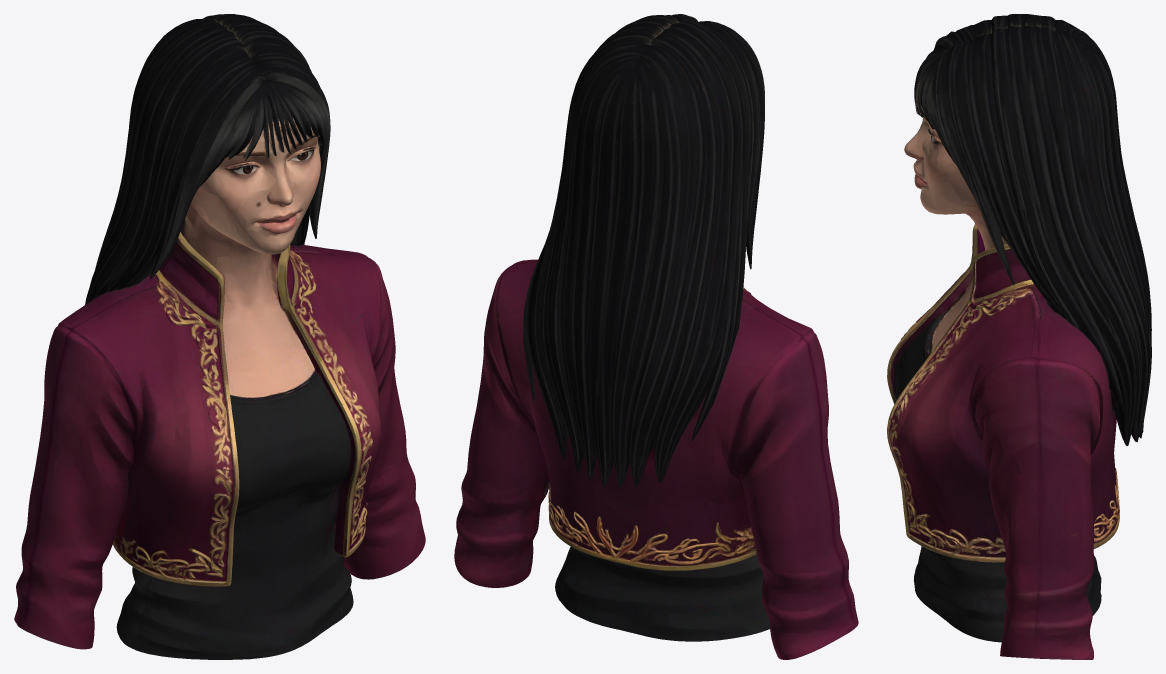
Rendered from fatima-buste-original.glb.
The picture shows the model from 3 angles, left to right: view 1: azimuth 30°, elevation 25°; view 2: azimuth 150°, elevation 25°; view 3: azimuth 270°, elevation 25°; orthographic projection. The views are drawn at different scales.
Bounding box in the file's own units: 1.35 × 1.9 × 0.8003.
Materials: 1 (1 with a texture image).
